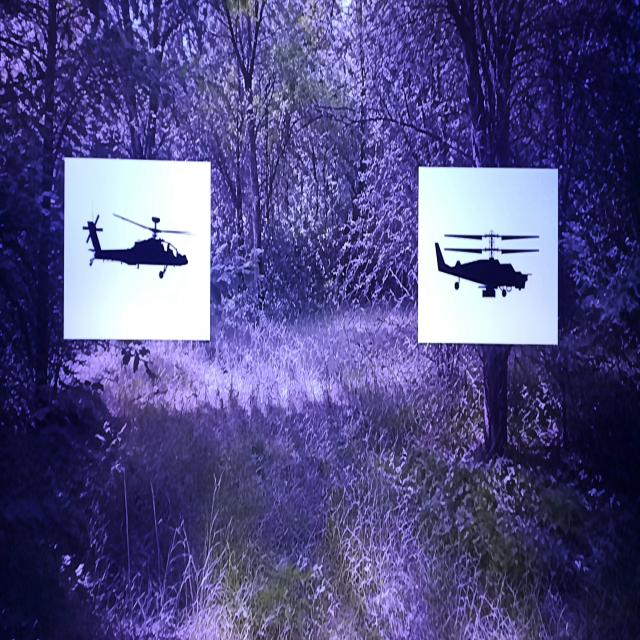Apache friendly: (83, 214, 188, 278)
Ka-52 Enemy: (436, 232, 539, 297)
